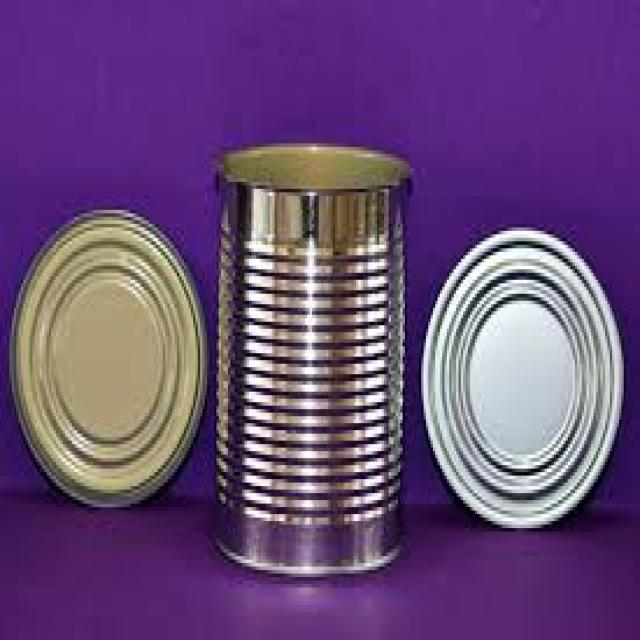metal: (209, 140, 412, 573), (417, 220, 624, 532), (7, 206, 207, 514)
